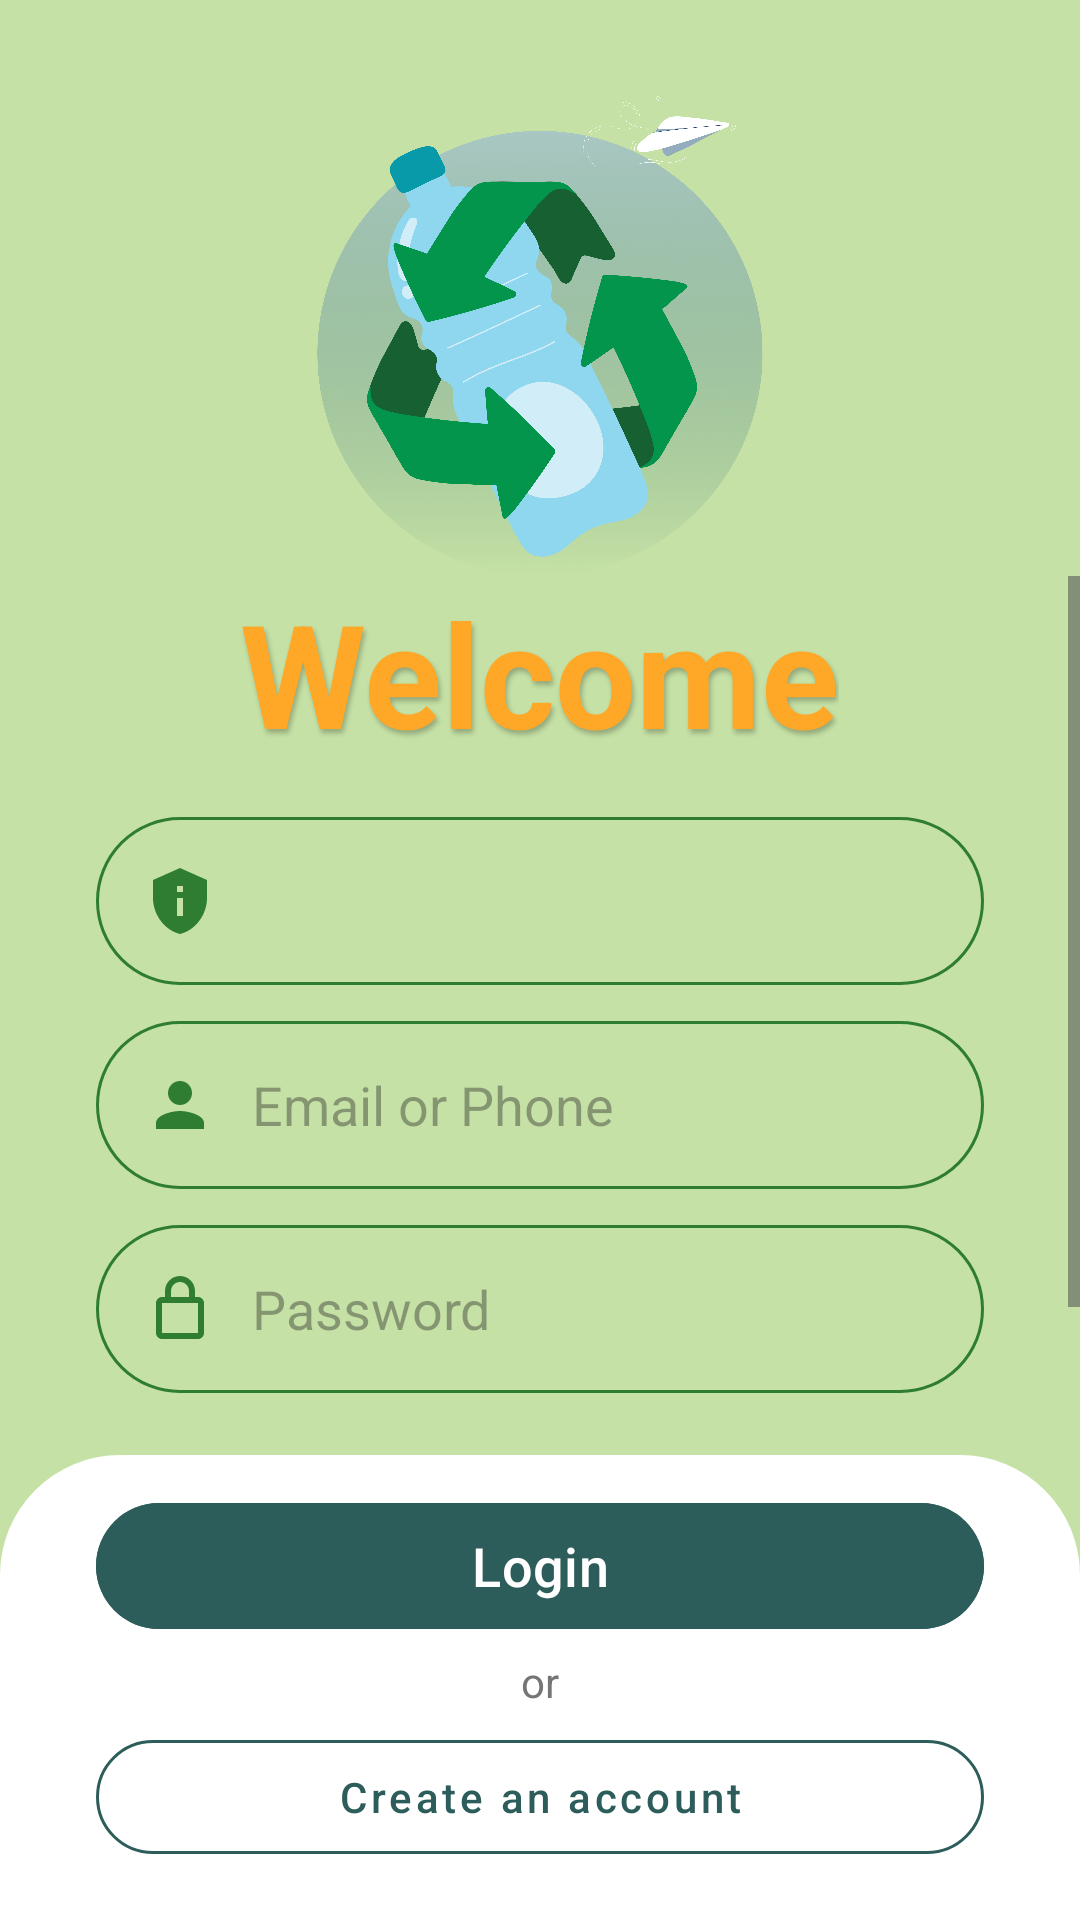

Icon bounding boxes for this 1080*1920 phone screenshot, format [x1,y1,x2,y2]:
admin: [153,868,207,934]
